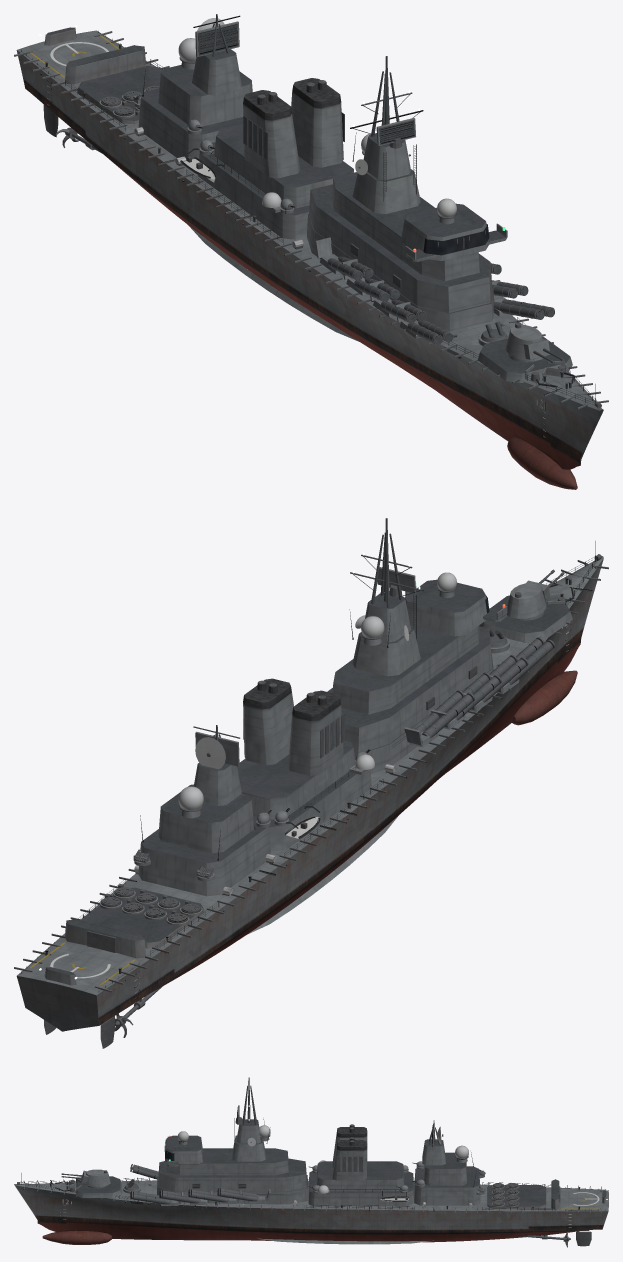
File: enemy_destroyer.glb
3 views of the same model, one above another, from view 1: azimuth 30°, elevation 25°; view 2: azimuth 150°, elevation 25°; view 3: azimuth 270°, elevation 25° (orthographic). The views are drawn at different scales.
Visible parts, largest first — view 1: sl_super, sl_hull, sl_detail; view 2: sl_super, sl_hull, sl_detail; view 3: sl_hull, sl_super, sl_detail.
Part boxes in pixels (left/top/right/bottom): sl_super: left=14, top=14, right=608, bottom=409; sl_hull: left=16, top=30, right=603, bottom=489; sl_detail: left=21, top=25, right=597, bottom=440; sl_super: left=14, top=518, right=608, bottom=992; sl_hull: left=16, top=556, right=603, bottom=1048; sl_detail: left=21, top=541, right=597, bottom=999; sl_hull: left=14, top=1180, right=608, bottom=1247; sl_super: left=17, top=1077, right=606, bottom=1213; sl_detail: left=21, top=1105, right=607, bottom=1227.
Size of the model in its own units: 23.94 by 57.39 by 186.
16 materials, 16 textured.
